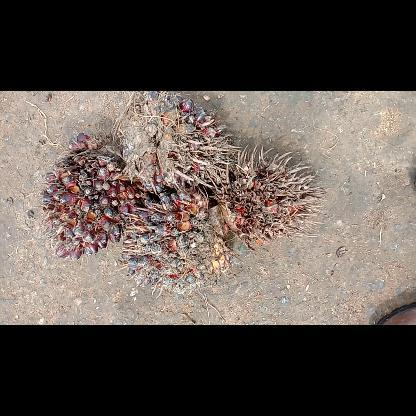TBS abnormal: (112, 90, 240, 194), (40, 132, 144, 260), (116, 188, 235, 294), (207, 145, 325, 242)
